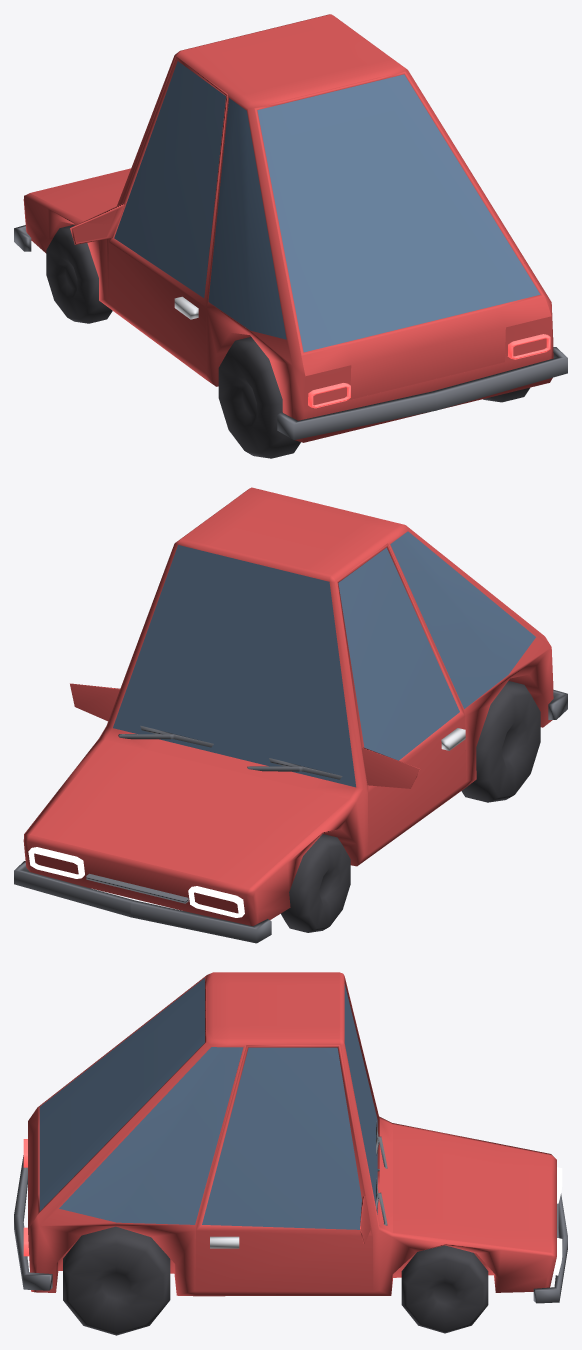
File: cv-hatchback.glb
The picture shows the model from 3 angles, top to bottom: view 1: azimuth 30°, elevation 25°; view 2: azimuth 150°, elevation 25°; view 3: azimuth 270°, elevation 25°; orthographic projection. The views are drawn at different scales.
Visible parts, largest first — view 1: Window.3, CarMesh, Window.2, ID226, WindowL, ID181, WheelRL, BumperRear, WheelFL, Hood, ID199, Mirror.2; view 2: WindowFront.1, CarMesh, Hood, Window.2, WindowL, ID181, WheelRL, WheelFL, BumperFront, ID199, ID154, ID382 (+4 smaller); view 3: CarMesh, Window, Hood, WindowR, Window.3, ID136, WheelRR, WheelFR, WindowFront.1, ID226, BumperRear, BumperFront.
Boxes of the visible parts, left/top/right/bottom form: Window.3: left=257, top=74, right=540, bottom=352; CarMesh: left=23, top=14, right=553, bottom=442; Window.2: left=114, top=61, right=225, bottom=297; ID226: left=254, top=71, right=551, bottom=399; WindowL: left=208, top=98, right=286, bottom=339; ID181: left=108, top=56, right=227, bottom=373; WheelRL: left=218, top=337, right=300, bottom=458; BumperRear: left=277, top=347, right=567, bottom=439; WheelFL: left=46, top=225, right=112, bottom=323; Hood: left=30, top=168, right=130, bottom=221; ID199: left=70, top=203, right=124, bottom=244; Mirror.2: left=72, top=223, right=110, bottom=242; WindowFront.1: left=113, top=545, right=355, bottom=787; CarMesh: left=23, top=487, right=553, bottom=925; Hood: left=30, top=739, right=348, bottom=888; Window.2: left=338, top=547, right=459, bottom=760; WindowL: left=390, top=531, right=535, bottom=708; ID181: left=336, top=543, right=466, bottom=853; WheelRL: left=461, top=681, right=540, bottom=802; WheelFL: left=281, top=834, right=350, bottom=932; BumperFront: left=14, top=861, right=271, bottom=943; ID199: left=361, top=747, right=420, bottom=788; ID154: left=70, top=683, right=119, bottom=721; ID382: left=28, top=847, right=84, bottom=878; CarMesh: left=28, top=972, right=556, bottom=1296; Window: left=202, top=1047, right=361, bottom=1229; Hood: left=393, top=1124, right=551, bottom=1252; WindowR: left=59, top=1047, right=243, bottom=1224; Window.3: left=39, top=978, right=204, bottom=1211; ID136: left=195, top=1045, right=372, bottom=1291; WheelRR: left=63, top=1226, right=170, bottom=1335; WheelFR: left=401, top=1245, right=488, bottom=1333; WindowFront.1: left=344, top=984, right=377, bottom=1214; ID226: left=28, top=975, right=206, bottom=1229; BumperRear: left=14, top=1155, right=52, bottom=1290; BumperFront: left=533, top=1193, right=567, bottom=1303.
Size of the model in its own units: 2.2 by 1.81 by 3.32.
